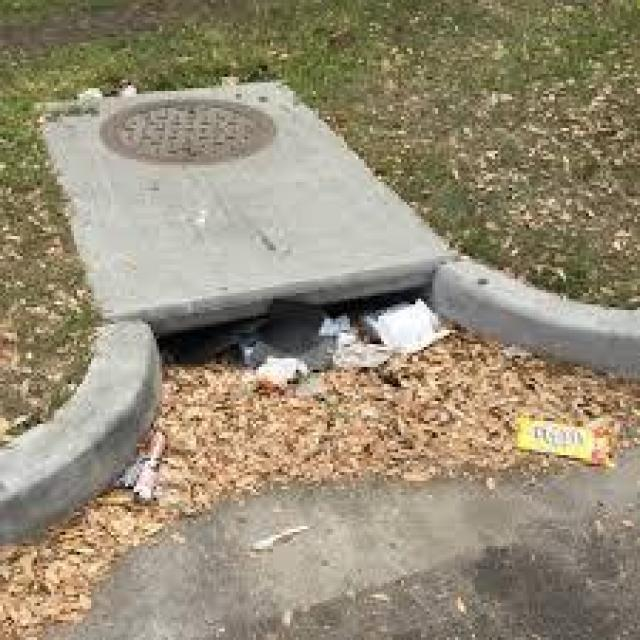curb: (166, 250, 451, 379), (2, 336, 181, 531), (449, 259, 640, 381)
